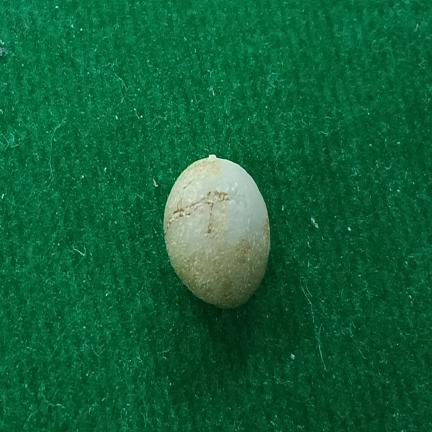good: (163, 155, 270, 308)
